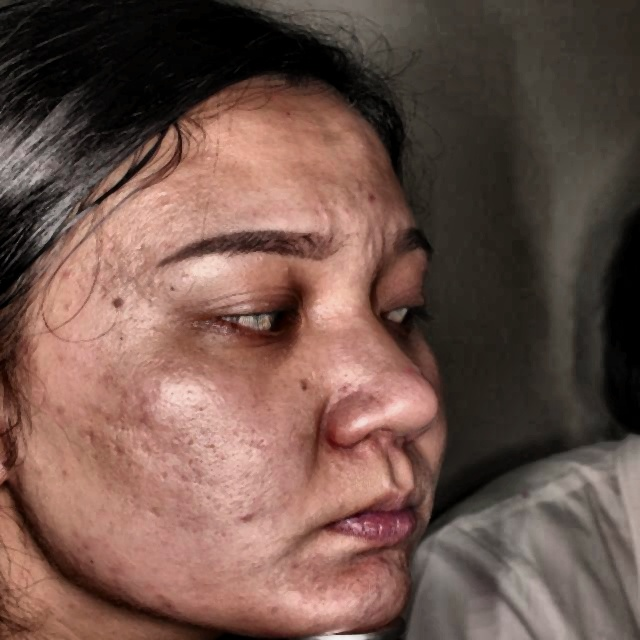comedone: (394, 357, 423, 384), (236, 507, 260, 529)
